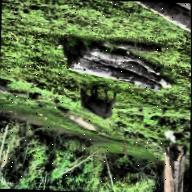boar: (74, 89, 125, 125)
